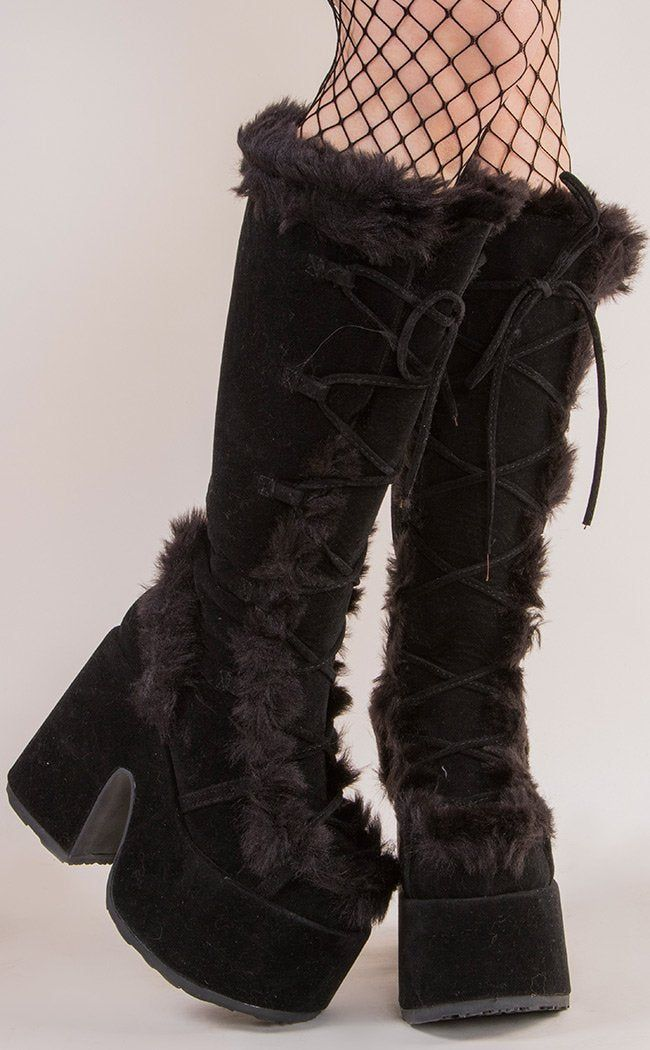gamuza: (172, 164, 607, 934)
